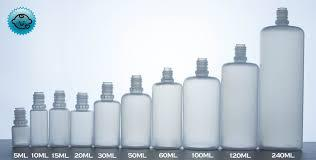Container for household chemicals: (5, 44, 268, 160), (236, 1, 308, 160)
